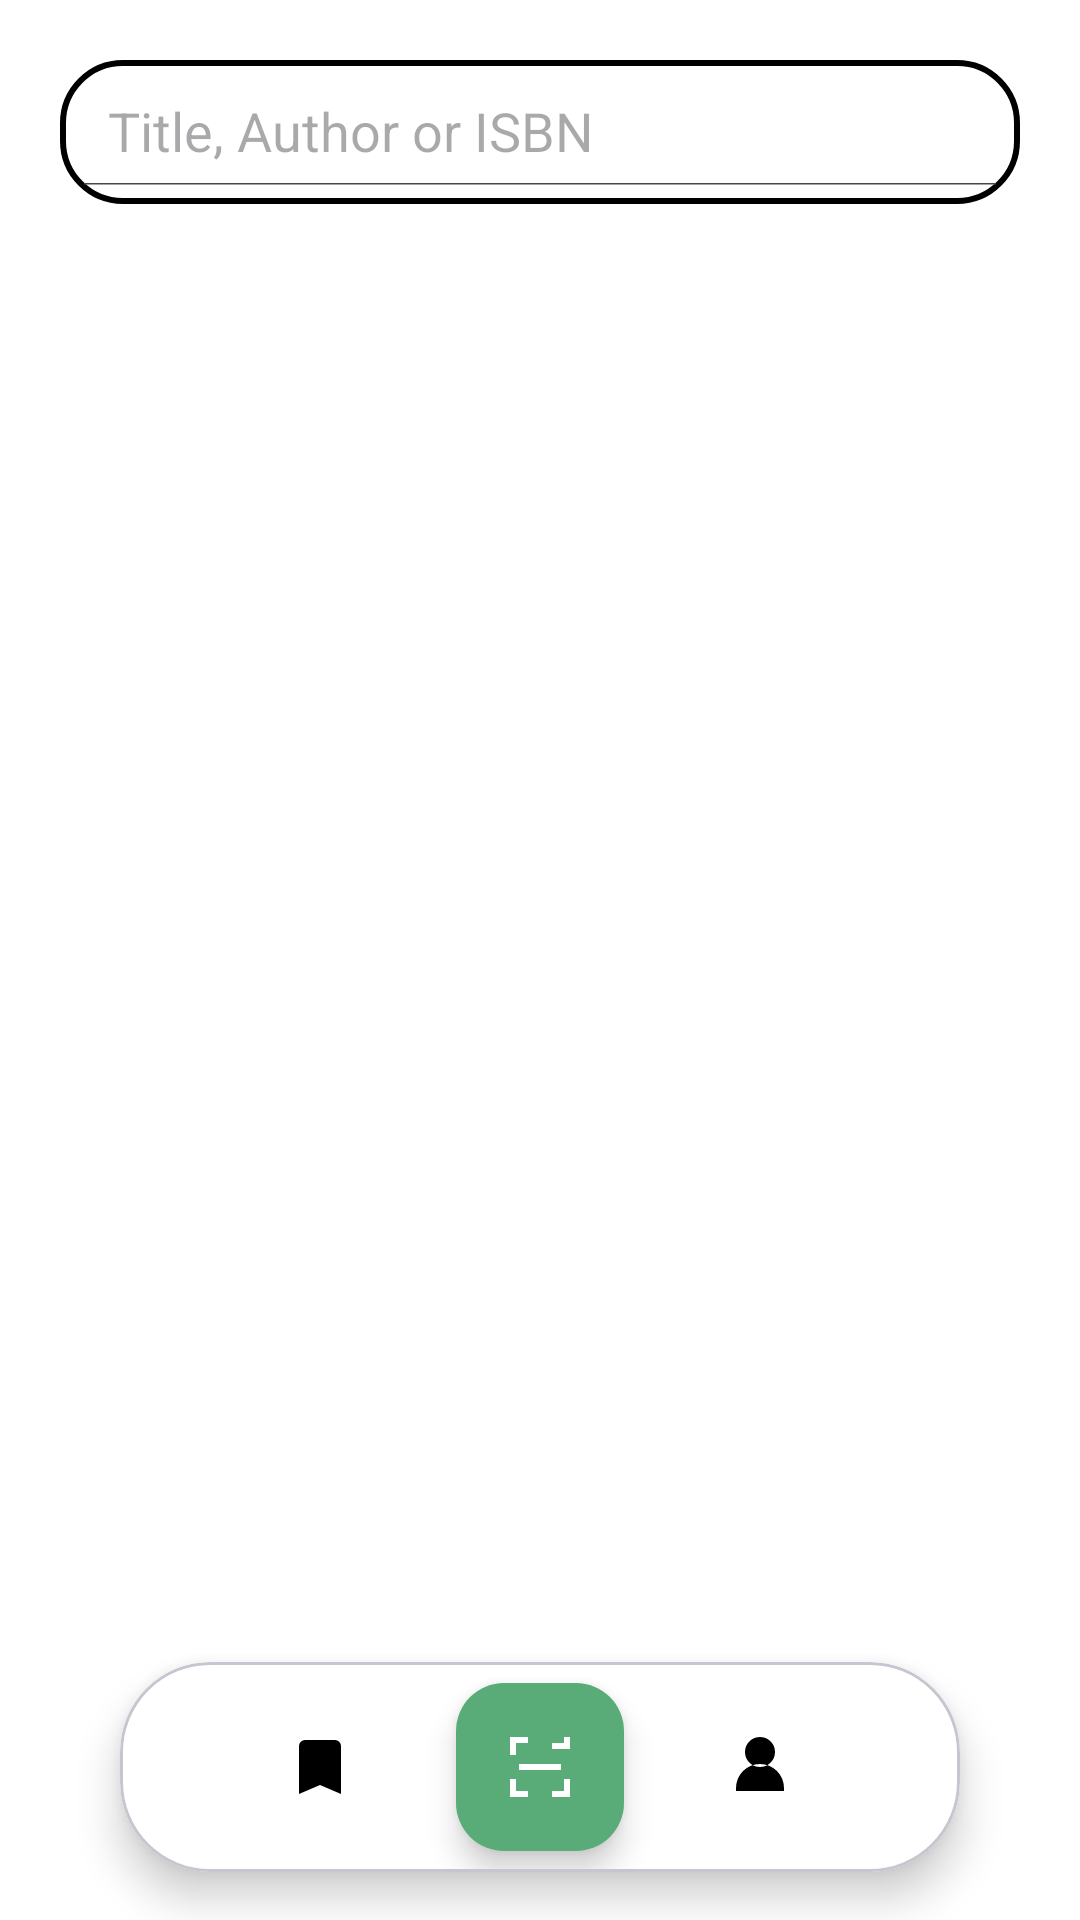

Where icons sit on this 1080px x 1920px app screen, as bbox=(x1, y1, x2, y2):
Profile: bbox=(736, 1737, 784, 1791)
Saved Books: bbox=(299, 1740, 341, 1794)
scanner: bbox=(456, 1683, 624, 1851)
